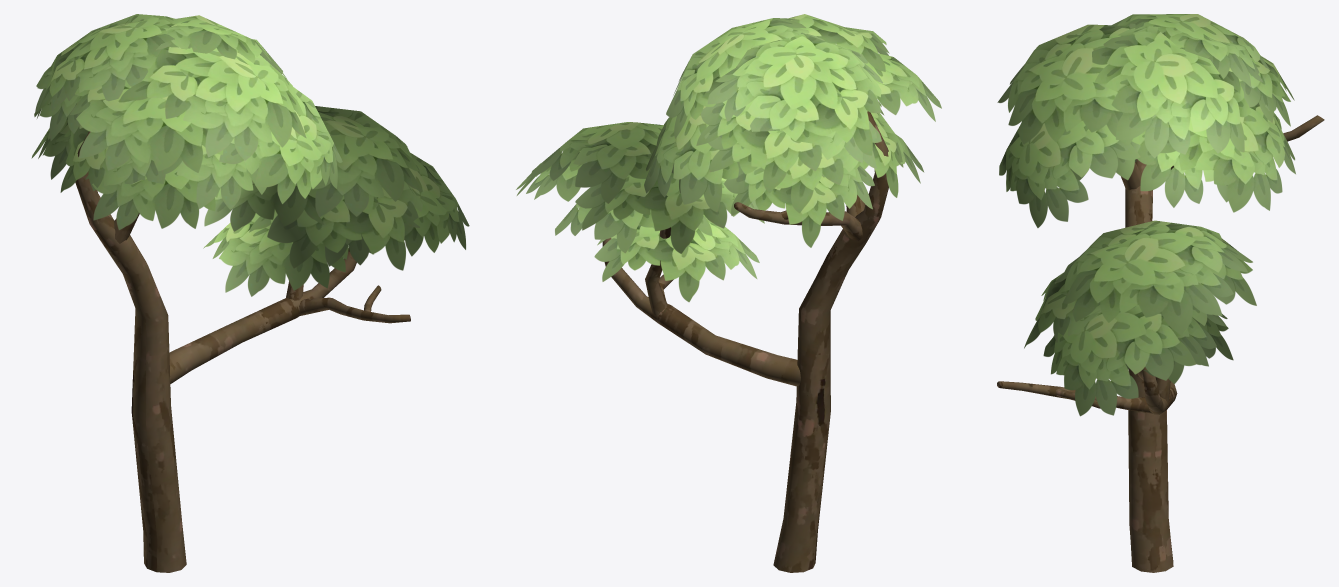
Rendered from street-tree-3.glb.
The picture shows the model from 3 angles, left to right: view 1: azimuth 30°, elevation 25°; view 2: azimuth 150°, elevation 25°; view 3: azimuth 270°, elevation 25°; orthographic projection.
Visible parts, largest first — view 1: Tree_6; view 2: Tree_6; view 3: Tree_6.
Part boxes in pixels (box(x1,y1,x2,y2)): Tree_6: box(31, 14, 469, 572); Tree_6: box(516, 14, 941, 572); Tree_6: box(997, 14, 1324, 572).
Size of the model in its own units: 6.84 by 8.38 by 4.8.
2 materials, 2 textured.
